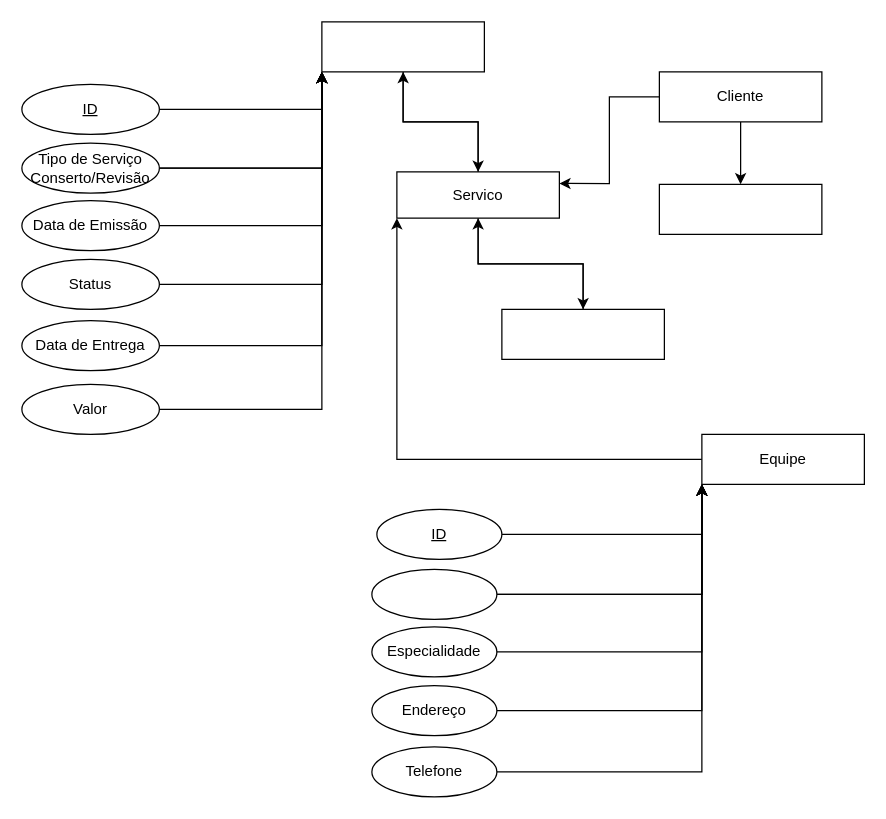
Some shapes in this 886 by 819 pixel diagram are drawn without their labels. The shapes that lost their labels are listed below. From the top down, each one's centre as x and y in pixels, then its label:
At (402,46): "Ordem de Serviço".
At (740,208): "Veículo".
At (582,333): "Peca".
At (434,593): "Nome".
